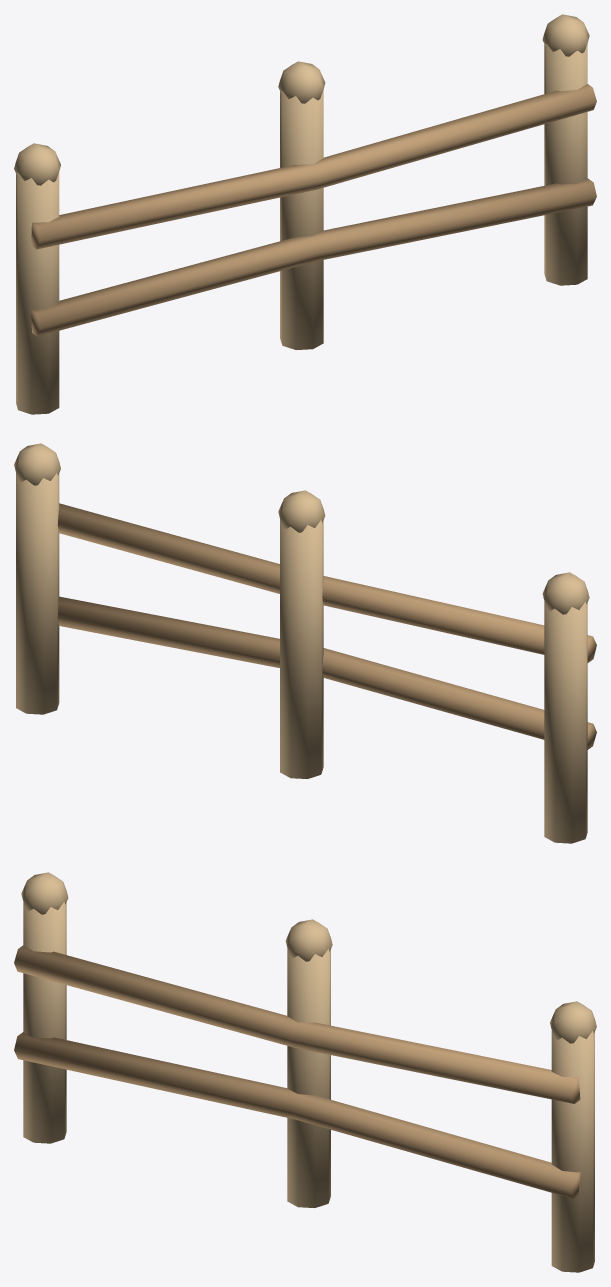
File: fence_rustic.glb
3 views of the same model, one above another, from view 1: azimuth 30°, elevation 25°; view 2: azimuth 150°, elevation 25°; view 3: azimuth 330°, elevation 25° (orthographic).
Parts seen in each view (by area): view 1: Fence_Rustic_Rails, Fence_Rustic_Stakes; view 2: Fence_Rustic_Stakes, Fence_Rustic_Rails; view 3: Fence_Rustic_Rails, Fence_Rustic_Stakes.
Boxes of the visible parts, x1,y1,x2,y2 form: Fence_Rustic_Rails: (30,84,596,336); Fence_Rustic_Stakes: (14,14,589,414); Fence_Rustic_Stakes: (14,443,589,843); Fence_Rustic_Rails: (57,503,596,749); Fence_Rustic_Rails: (14,945,580,1198); Fence_Rustic_Stakes: (21,872,596,1272).
Bounding box in the file's own units: 2.04 × 0.9513 × 0.19.
